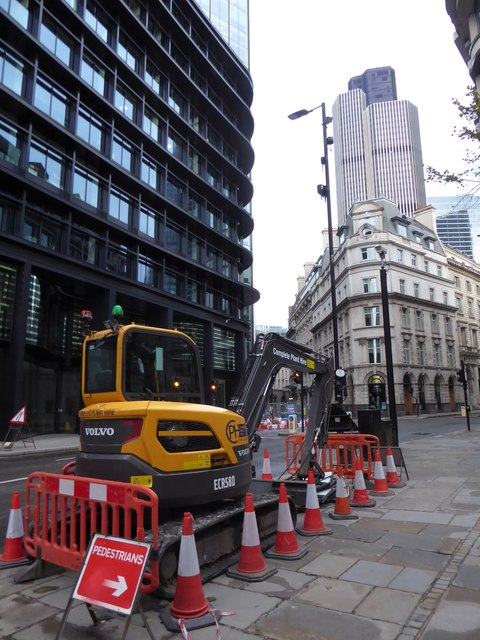excavator: (81, 318, 338, 590)
